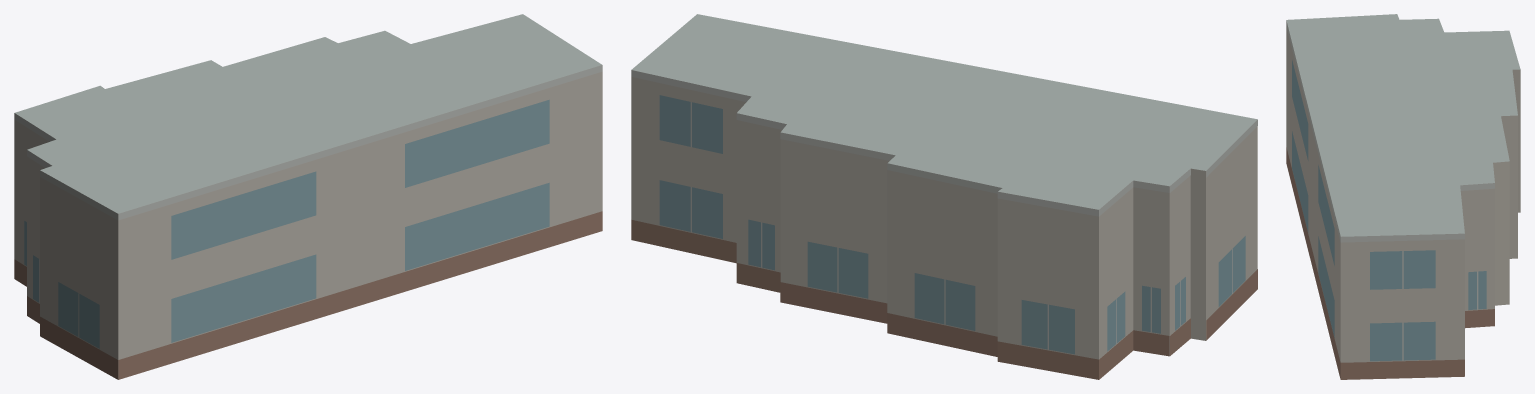
The model's file is survey-upis-32541349.glb.
3 renders of one model, left to right at view 1: azimuth 30°, elevation 25°; view 2: azimuth 150°, elevation 25°; view 3: azimuth 270°, elevation 25°, orthographic. The views are drawn at different scales.
Parts seen in each view (by area): view 1: survey-upis-32541349.tmp; view 2: survey-upis-32541349.tmp; view 3: survey-upis-32541349.tmp.
Boxes of the visible parts, x1,y1,x2,y2 form: survey-upis-32541349.tmp: (14, 14, 602, 379); survey-upis-32541349.tmp: (631, 14, 1257, 379); survey-upis-32541349.tmp: (1286, 14, 1520, 379).
Size of the model in its own units: 20.38 by 6.1 by 9.06.
